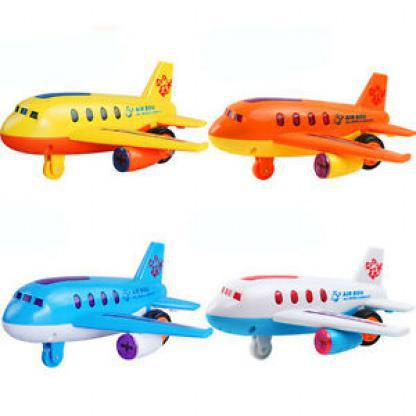CIV_Plane: (0, 58, 205, 202), (1, 240, 208, 370), (208, 65, 414, 181), (209, 250, 414, 350)
